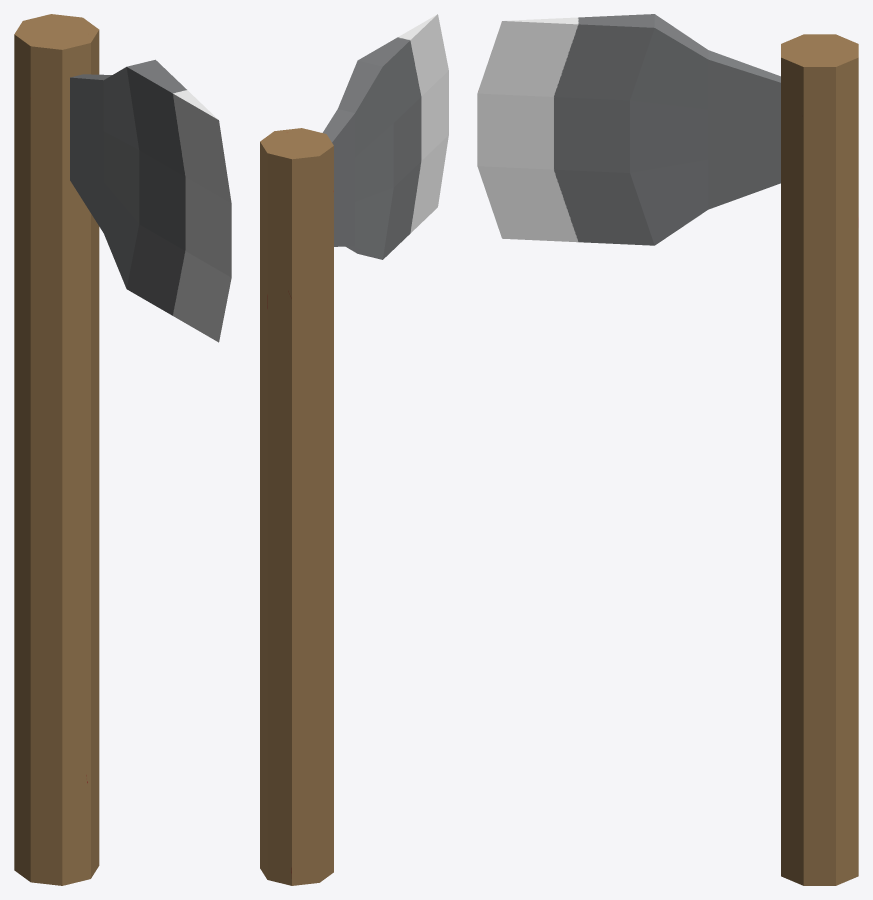
The model's file is Basic Axe.fbx.
The picture shows the model from 3 angles, left to right: view 1: azimuth 30°, elevation 25°; view 2: azimuth 150°, elevation 25°; view 3: azimuth 270°, elevation 25°; orthographic projection. The views are drawn at different scales.
Parts seen in each view (by area): view 1: Axe; view 2: Axe; view 3: Axe.
Part boxes in pixels (<box>): Axe: <box>14,14,231,885</box>; Axe: <box>260,14,448,885</box>; Axe: <box>477,14,858,885</box>.
Bounding box in the file's own units: 12.35 × 149 × 60.67.
